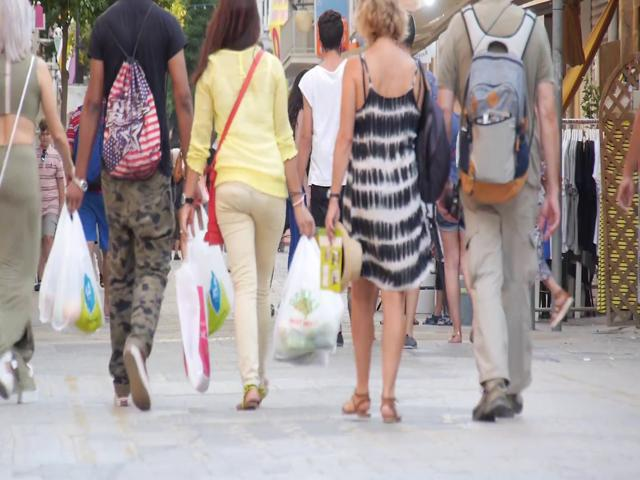shoe: (122, 345, 152, 410), (472, 382, 511, 421), (549, 289, 574, 328), (342, 391, 371, 419), (380, 396, 402, 423), (237, 387, 260, 410), (113, 389, 130, 407)
